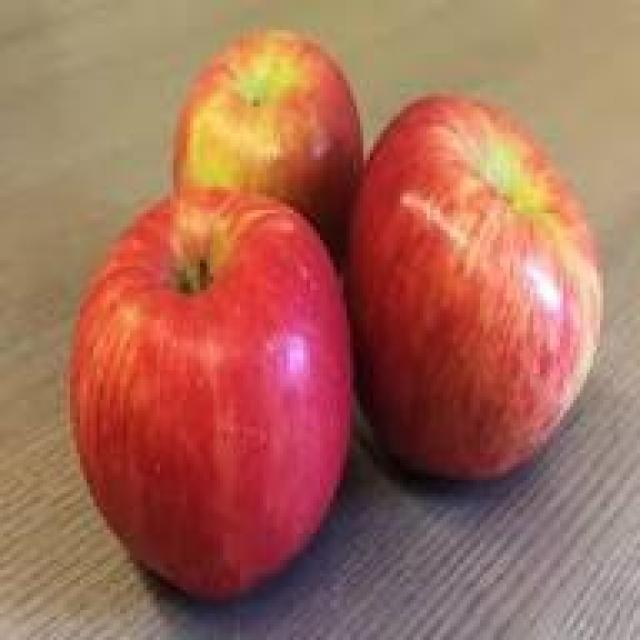apple: (83, 197, 337, 590), (353, 117, 607, 473), (176, 33, 366, 280)
